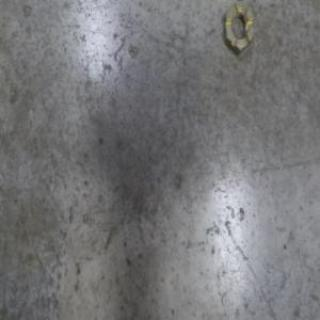Nuttrack_idkeyframe: (222, 0, 254, 57)
